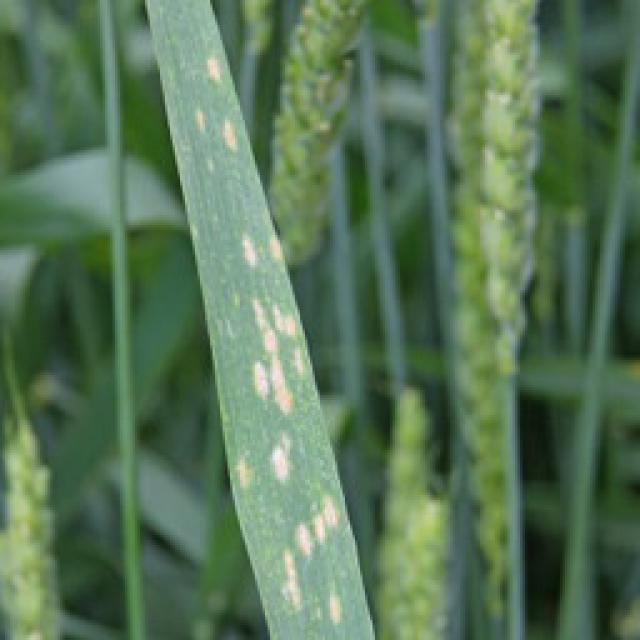wheat-powdery-mildew: (147, 4, 373, 640)
